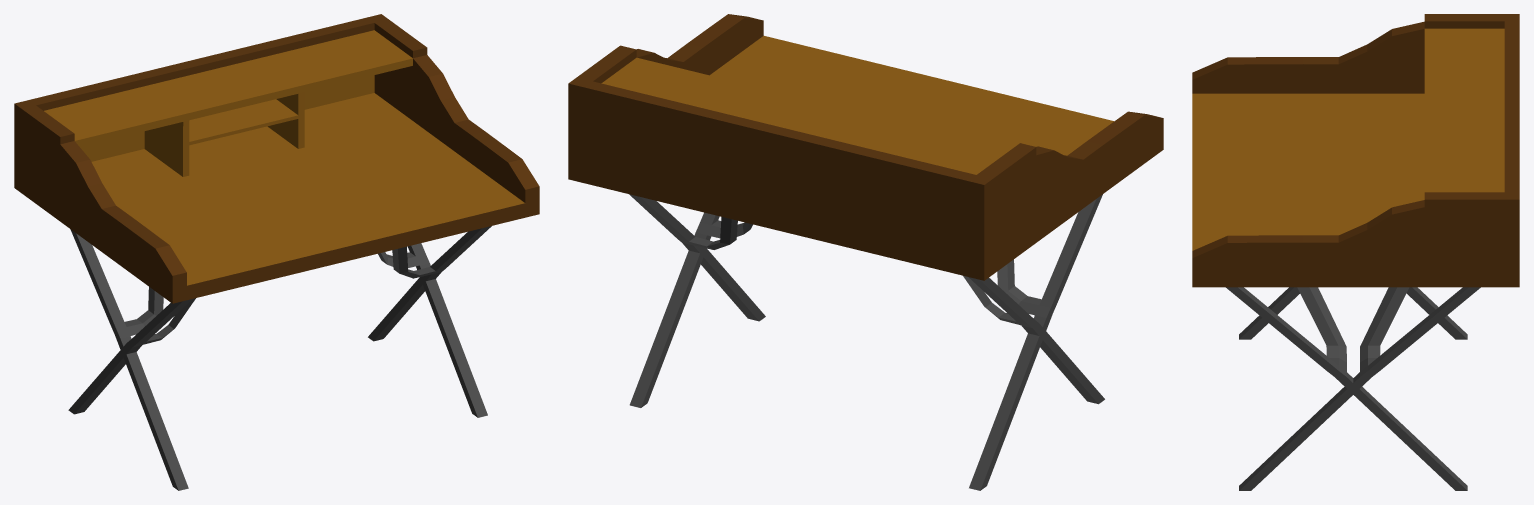
Rendered from CPI441_Fur_Desk_O3_V2.fbx.
The picture shows the model from 3 angles, left to right: view 1: azimuth 30°, elevation 25°; view 2: azimuth 150°, elevation 25°; view 3: azimuth 270°, elevation 25°; orthographic projection. The views are drawn at different scales.
Parts seen in each view (by area): view 1: Cube; view 2: Cube; view 3: Cube.
Part boxes in pixels (x1,y1,x2,y2): Cube: [14, 14, 539, 490]; Cube: [568, 14, 1163, 490]; Cube: [1192, 14, 1519, 490].
Size of the model in its own units: 395 by 304 by 295.
